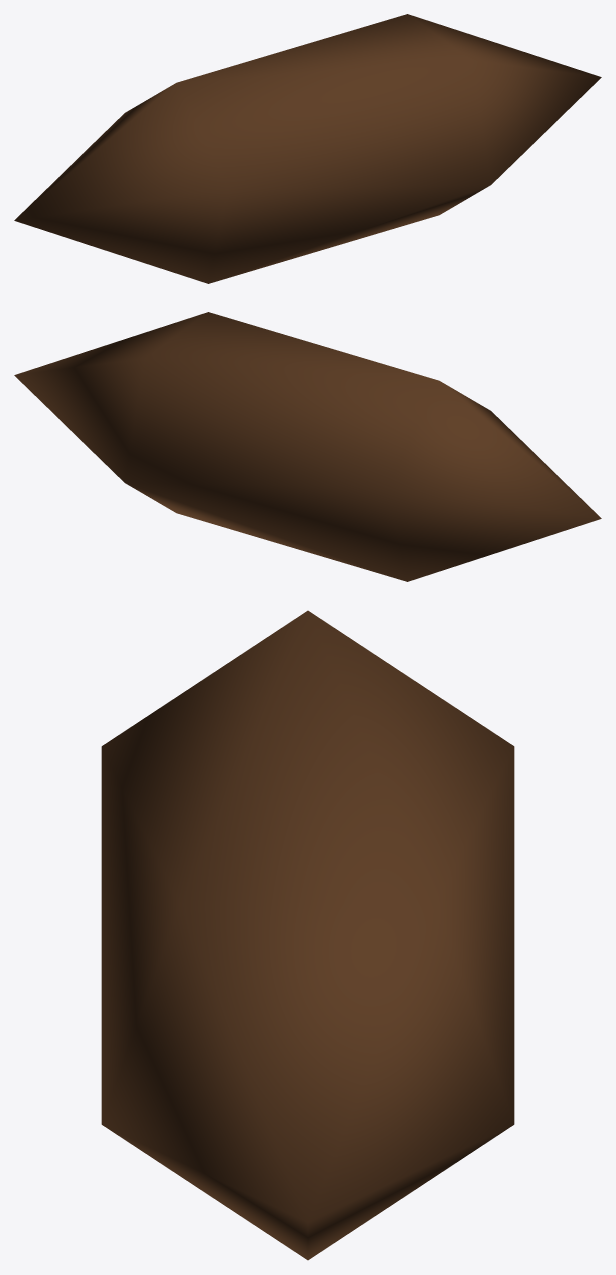
File: insectje.fbx
3 renders of one model, top to bottom at view 1: azimuth 30°, elevation 25°; view 2: azimuth 150°, elevation 25°; view 3: azimuth 270°, elevation 25°, orthographic. The views are drawn at different scales.
Parts seen in each view (by area): view 1: Icosphere; view 2: Icosphere; view 3: Icosphere.
Part boxes in pixels (x1,y1,x2,y2): Icosphere: (14, 14, 601, 283); Icosphere: (14, 312, 601, 581); Icosphere: (101, 610, 514, 1260).
Bounding box in the file's own units: 33.96 × 10.86 × 10.32.
